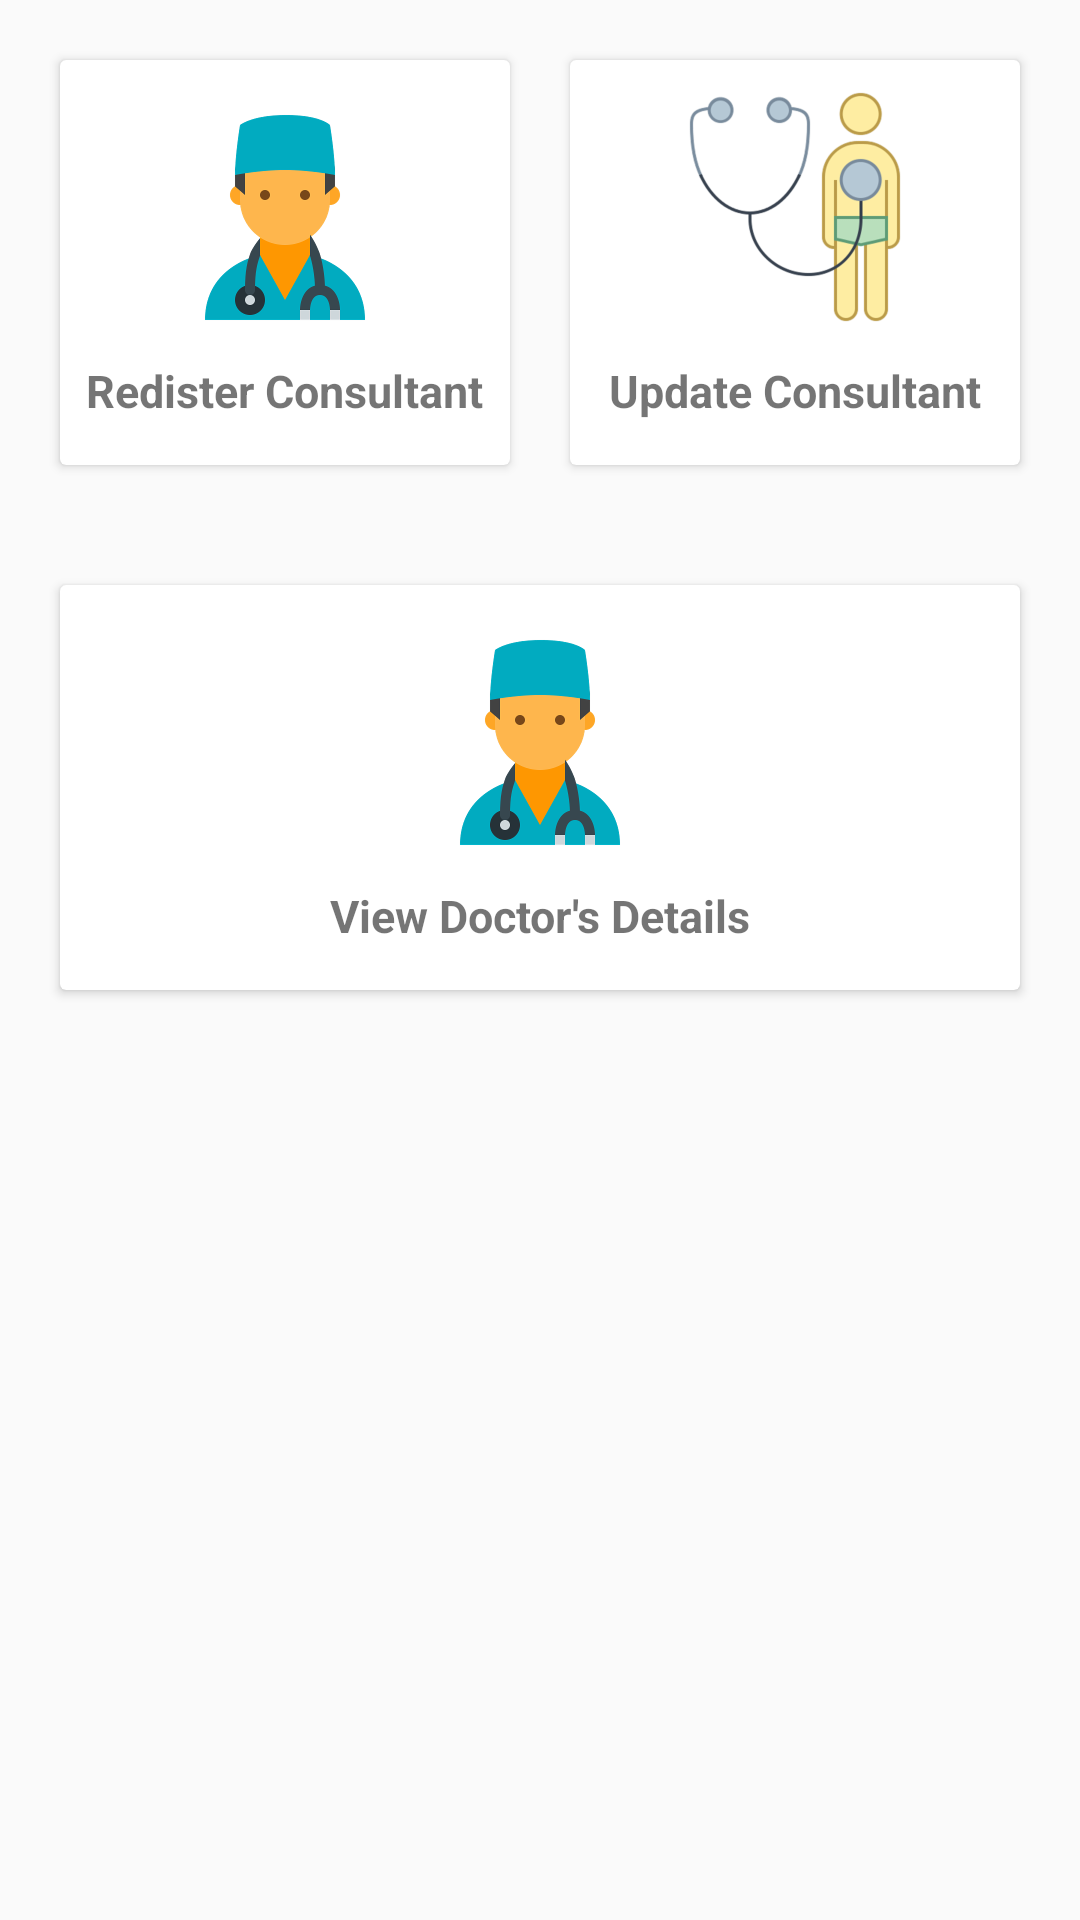

Named icons in this screenshot (1080 × 1920) and their bounding boxes, (x1, y1, x2, y2):
doctor male: (205, 115, 365, 320), (460, 640, 620, 845)
health checkup: (690, 93, 900, 321)
